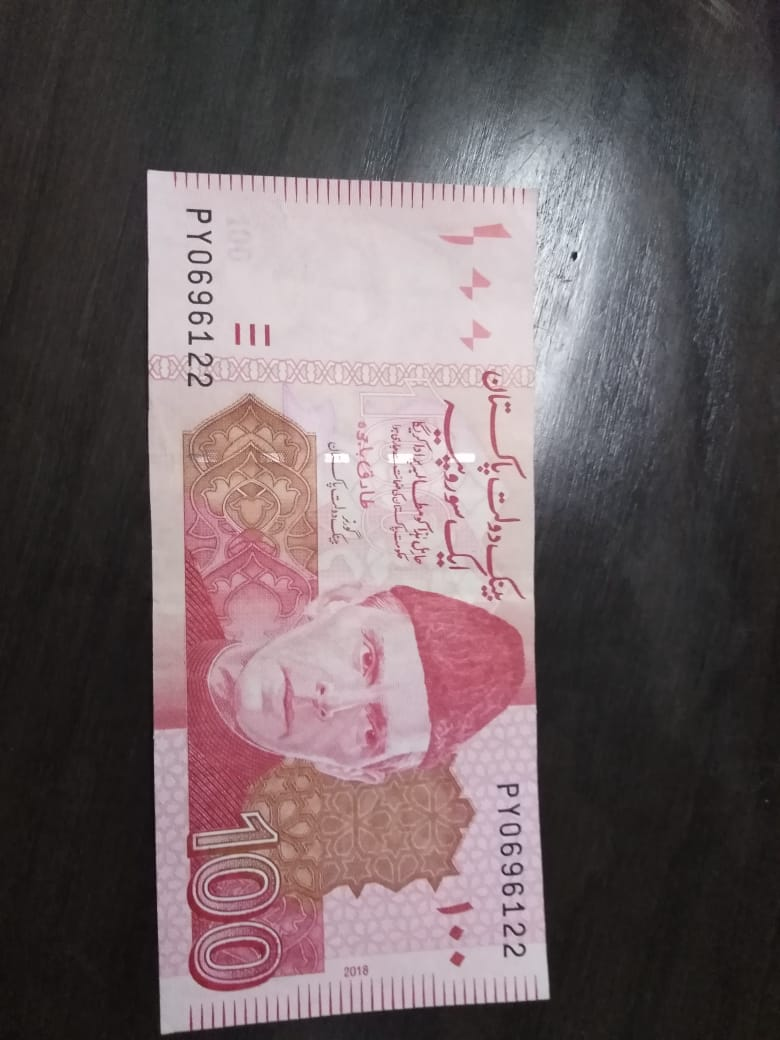100 rupee: (136, 164, 554, 1040)
